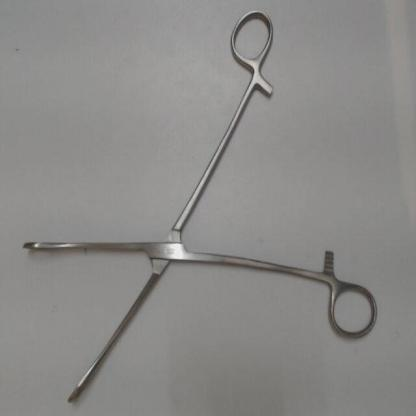Sponge Forceps: (16, 1, 382, 412)
